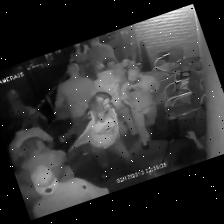person: (70, 92, 137, 177), (31, 165, 109, 217), (10, 128, 74, 181), (121, 66, 159, 149), (95, 64, 137, 134), (55, 63, 96, 133), (6, 90, 48, 130), (104, 58, 135, 85), (88, 37, 116, 64), (70, 43, 89, 76)
